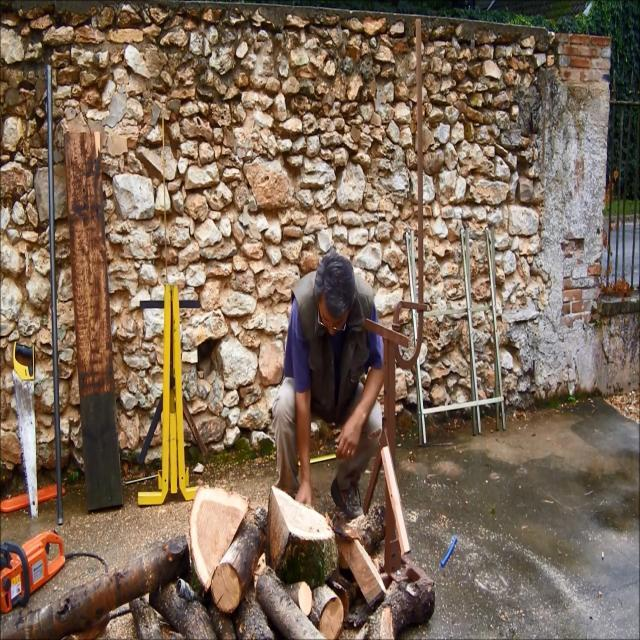Chainsaw: (0, 500, 96, 640)
